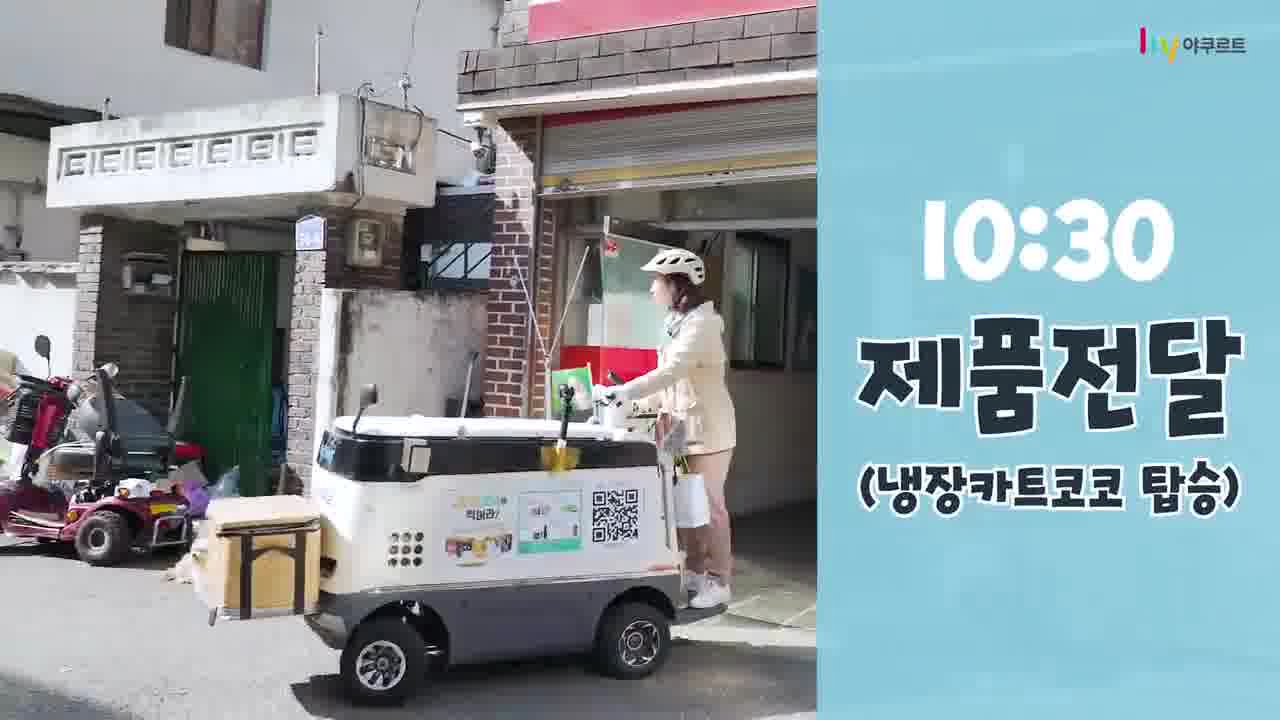Yakurut: (593, 244, 770, 616)
